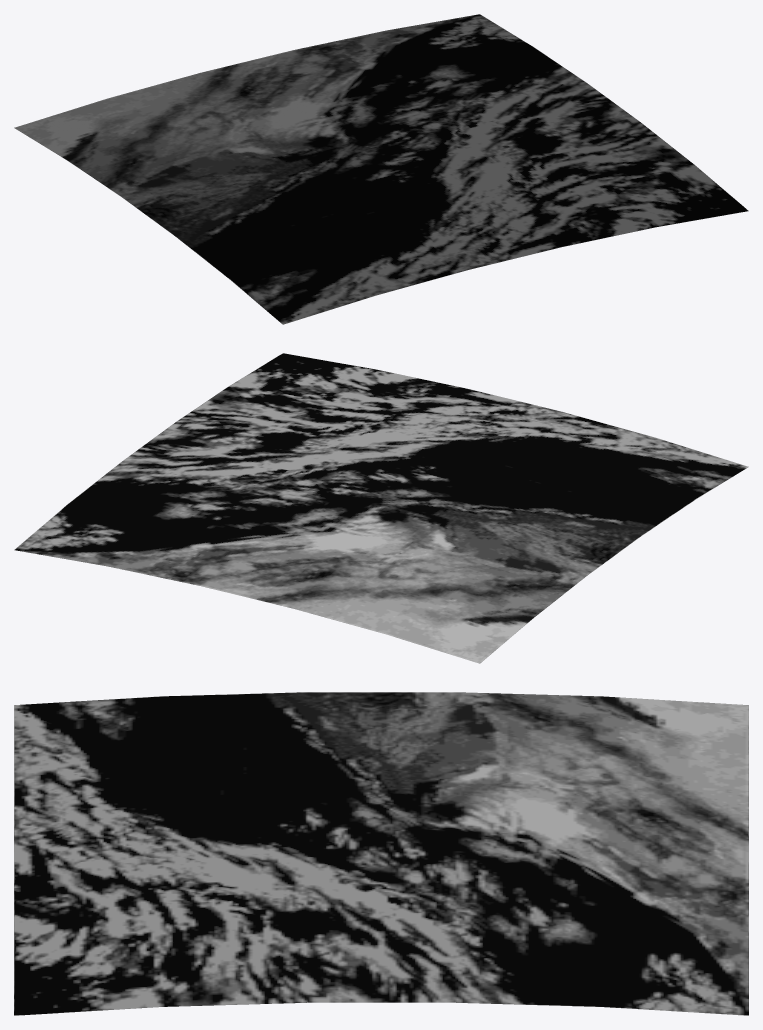
3 renders of one model, top to bottom at view 1: azimuth 30°, elevation 25°; view 2: azimuth 150°, elevation 25°; view 3: azimuth 270°, elevation 25°, orthographic. The views are drawn at different scales.
Parts seen in each view (by area): view 1: Joint_0_Object_0; view 2: Joint_0_Object_0; view 3: Joint_0_Object_0.
Boxes of the visible parts, x1,y1,x2,y2 form: Joint_0_Object_0: (14,14,748,324); Joint_0_Object_0: (14,353,748,663); Joint_0_Object_0: (14,692,748,1015).
Bounding box in the file's own units: 10000 × 400 × 10000.
1 material, 1 textured.
